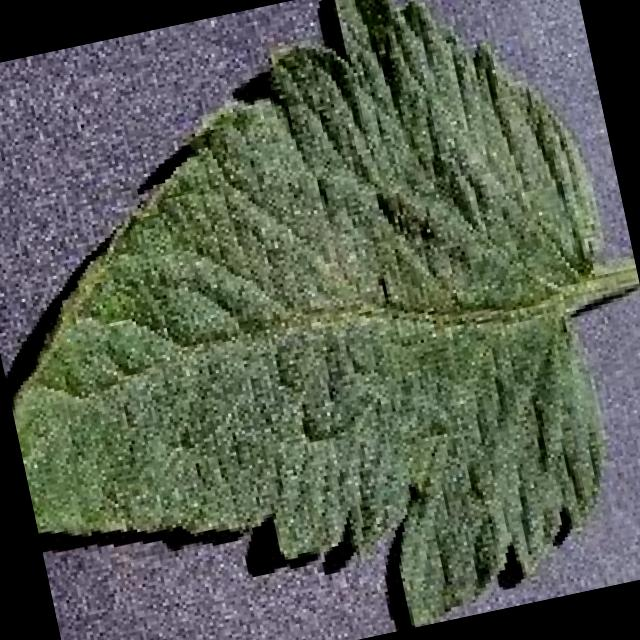healthy: (11, 0, 640, 629)
